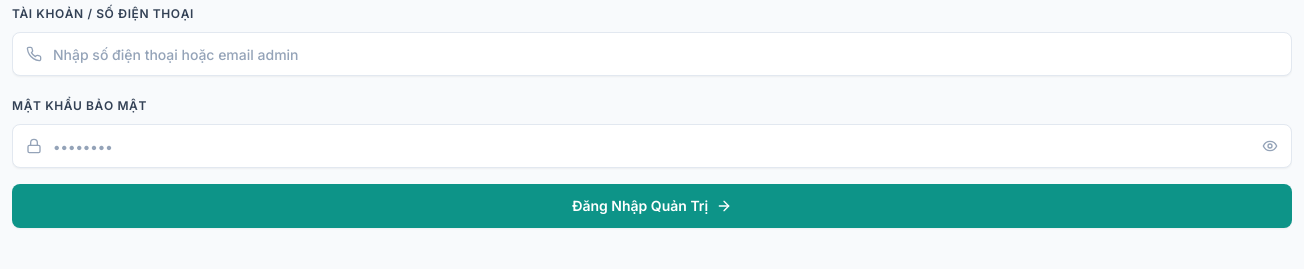
it: LoginForm › displays validation error when password is less than 6 characters
The image size is (1304, 269).
Type "0987654321" into the field with placeholder "Nhập số điện thoại hoặc email admin" at coordinates (652, 54), box [12,32,1292,76]
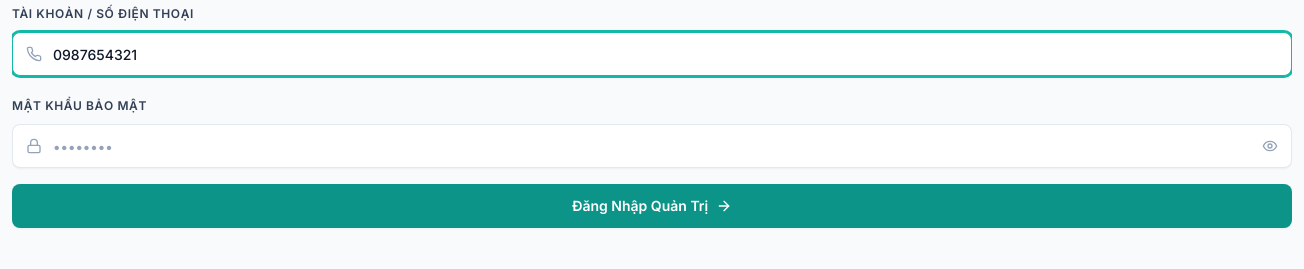
Type "12345" into the password field with placeholder "••••••••" at coordinates (652, 146), box [12,124,1292,168]
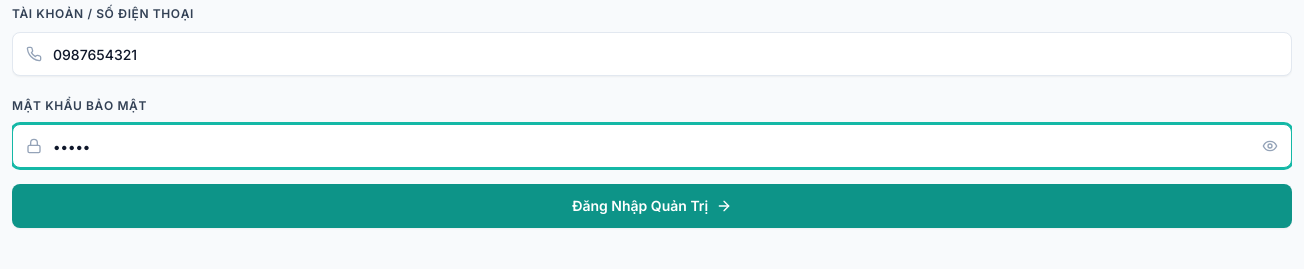
Click the button "Đăng Nhập Quản Trị" at coordinates (652, 206), box [12,184,1292,228]
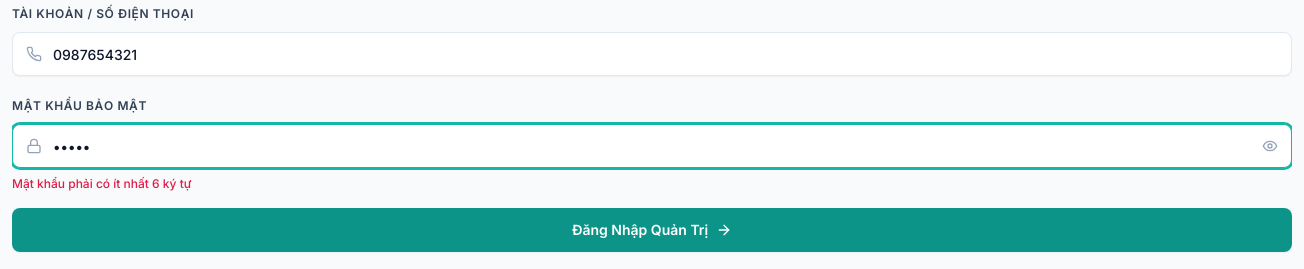
Result: the text "Mật khẩu phải có ít nhất 6 ký tự" is shown at [12,176,191,191]
